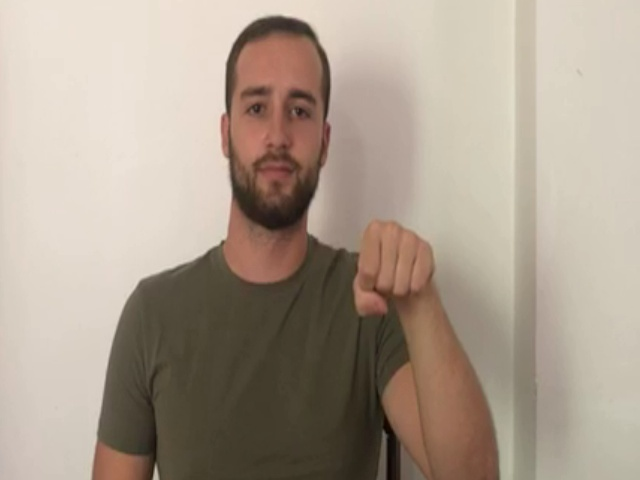Da: (349, 217, 438, 319)
